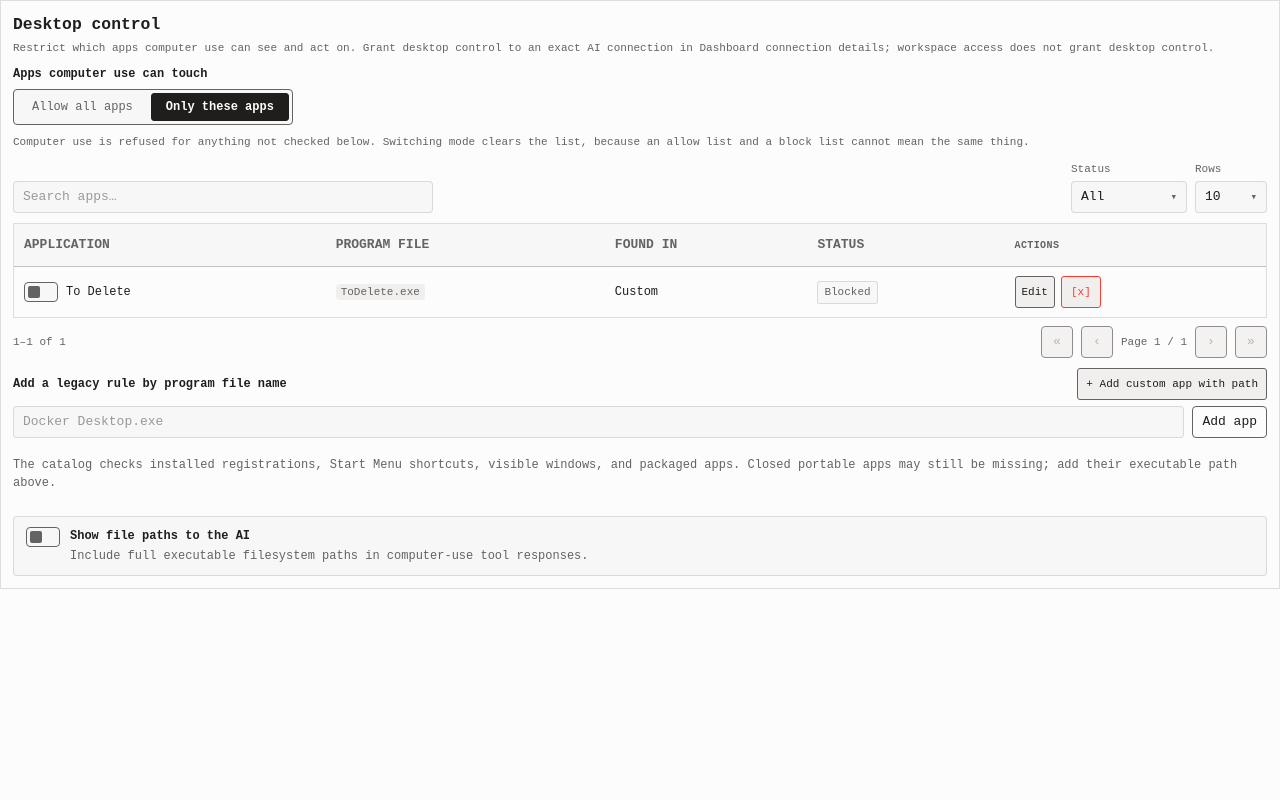
Test case: DesktopControlSettings › allows deleting a custom application record
What coordinates should you click on to do the following:
click the button named "delete to delete"
I would click on:
 (1081, 292)
Its box is [1061,276,1101,308].
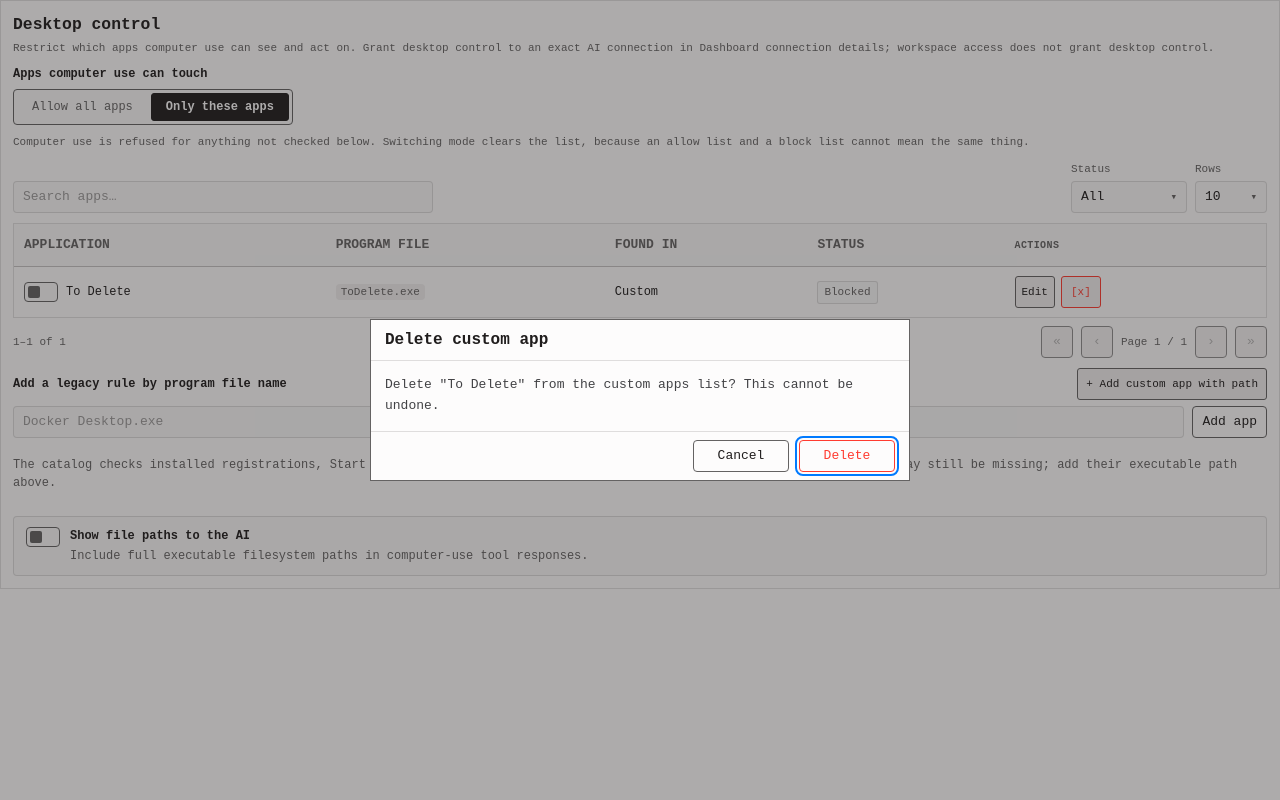
What coordinates should you click on to do the following:
click the button "Delete"
I would click on:
 (847, 456)
Its box is [799,440,895,472].
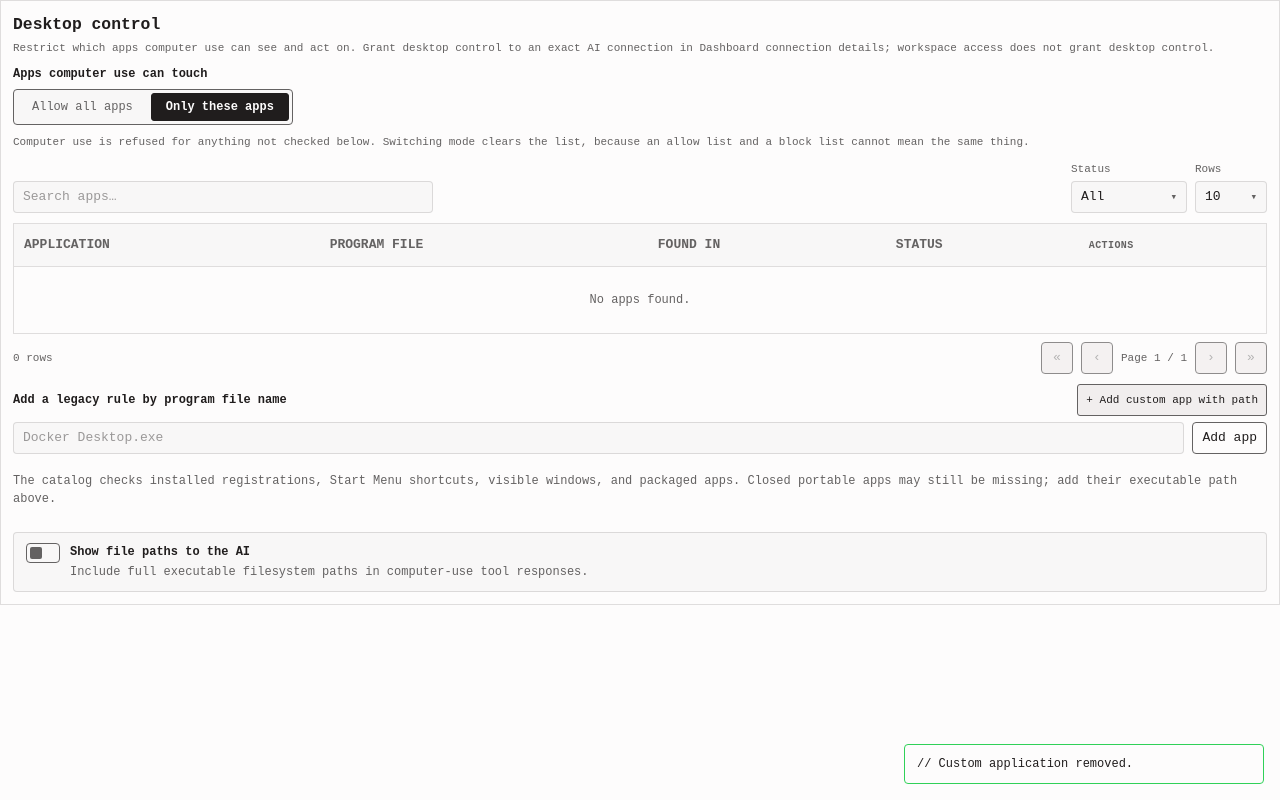
Expected: the text "To Delete" is gone
